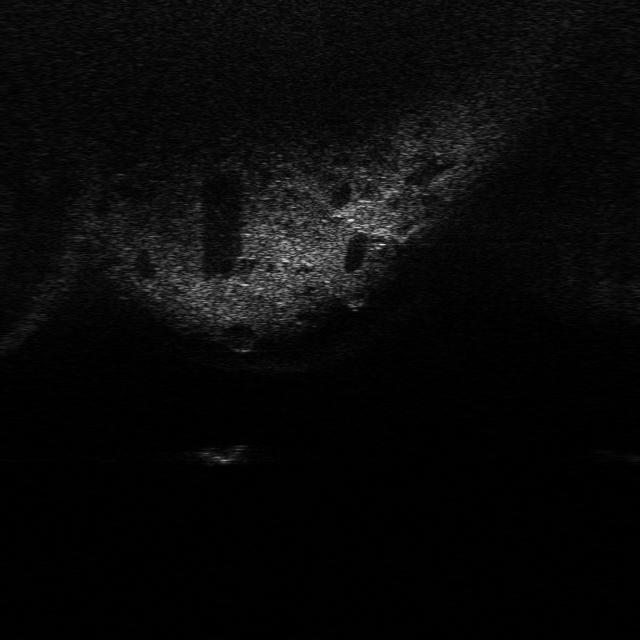ball: (333, 276, 373, 308)
cube: (189, 438, 247, 468)
